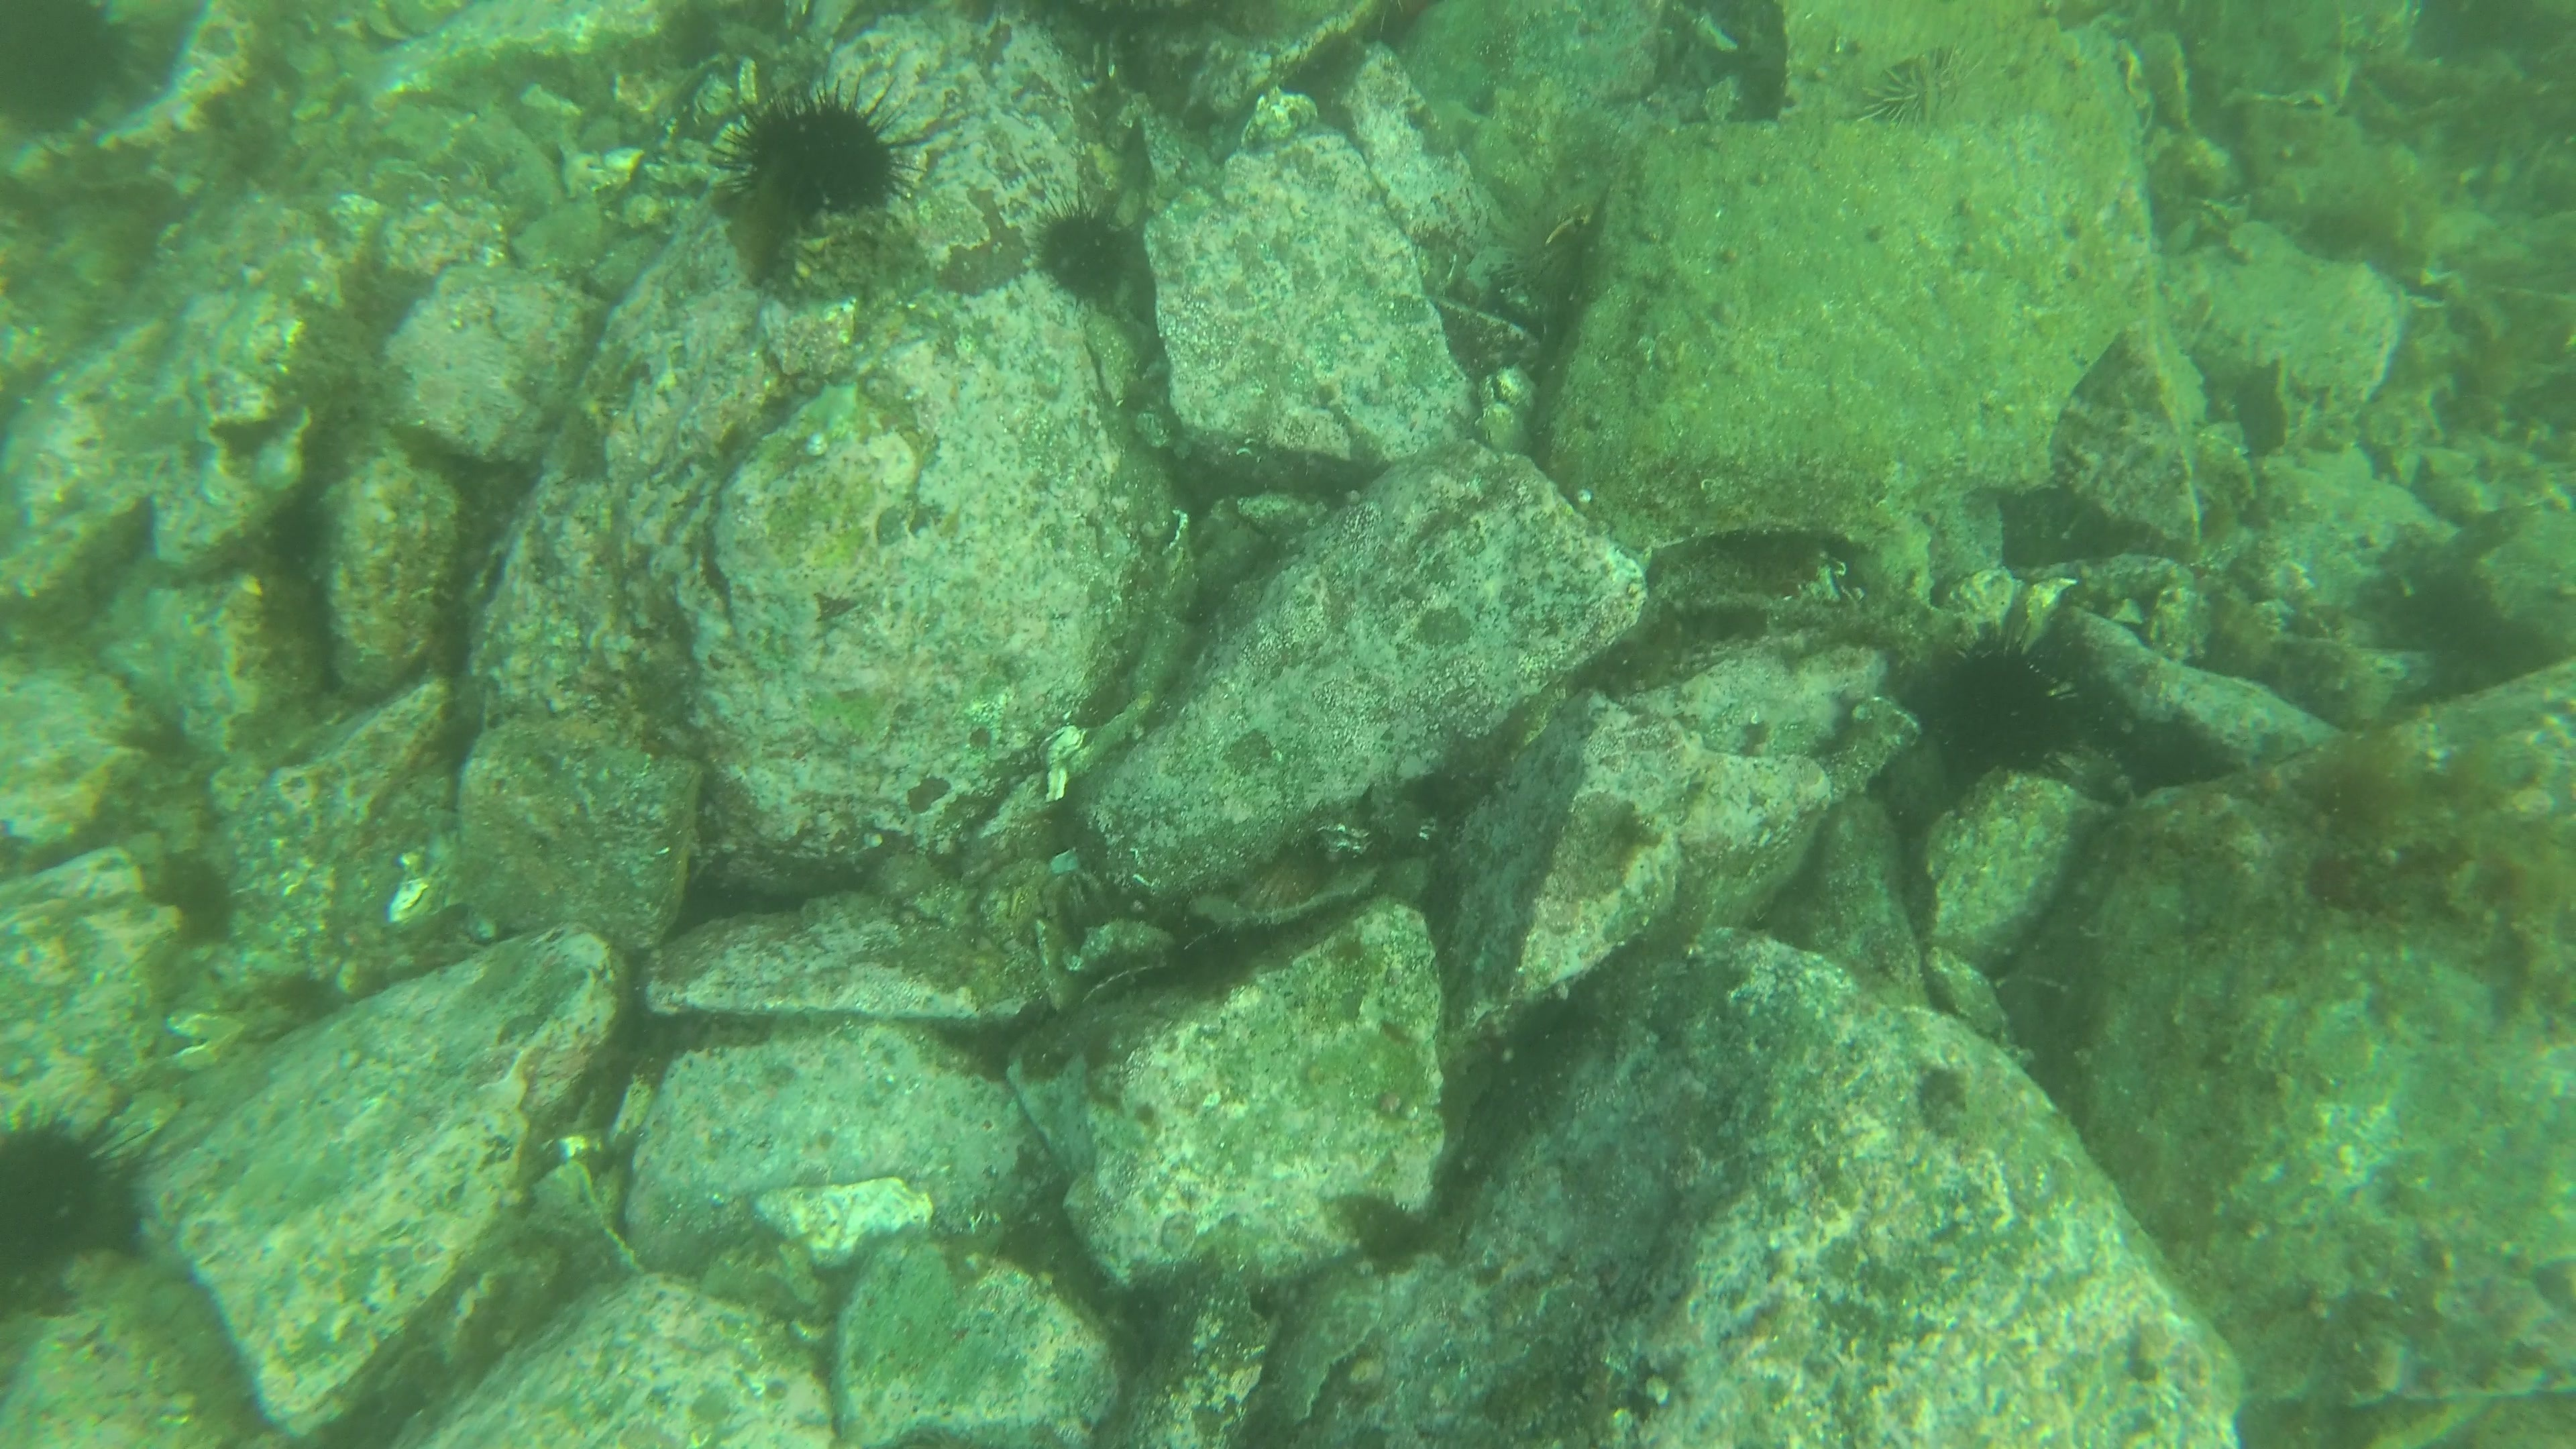echinus: (717, 80, 920, 230), (1916, 619, 2091, 789), (0, 1099, 154, 1292), (0, 2, 140, 142), (1845, 41, 2029, 143), (1028, 196, 1145, 311)
